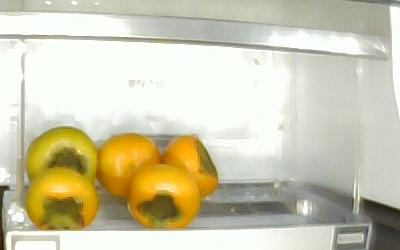persimmon: (125, 162, 201, 229), (23, 164, 98, 228), (96, 132, 164, 201), (25, 125, 97, 185), (160, 133, 219, 197)
